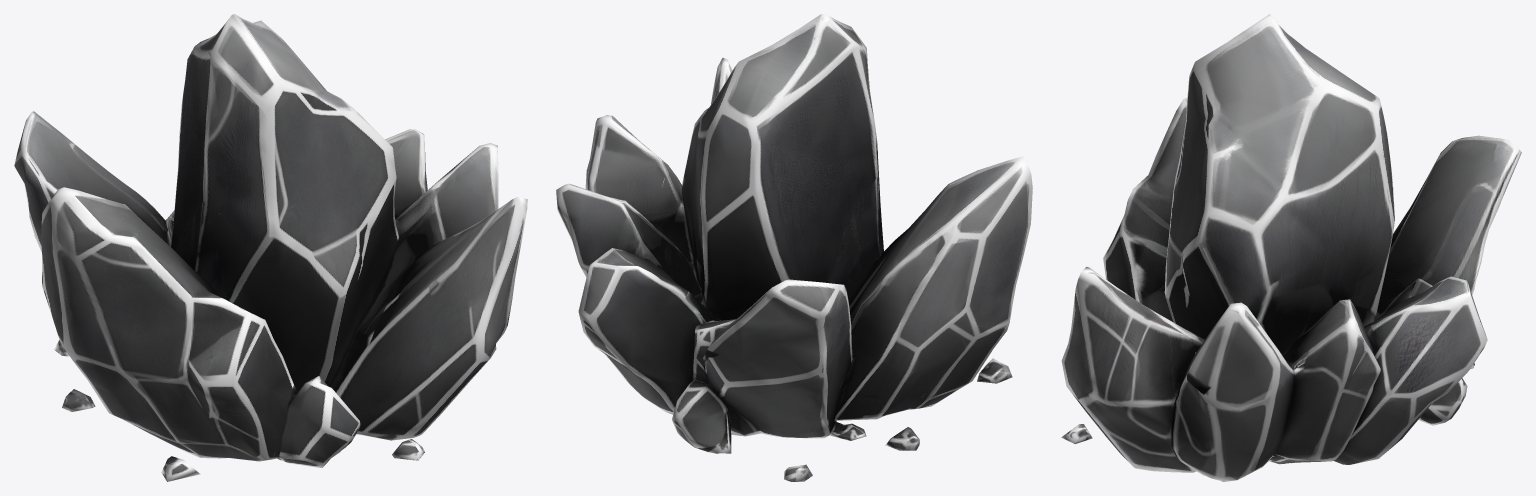
The picture shows the model from 3 angles, left to right: view 1: azimuth 30°, elevation 25°; view 2: azimuth 150°, elevation 25°; view 3: azimuth 270°, elevation 25°; orthographic projection. The views are drawn at different scales.
Visible parts, largest first — view 1: Mesh_0; view 2: Mesh_0; view 3: Mesh_0.
Part boxes in pixels (x1=…): Mesh_0: x1=14, y1=14, x2=527, y2=481; Mesh_0: x1=556, y1=14, x2=1032, y2=481; Mesh_0: x1=1061, y1=14, x2=1521, y2=481.
Bounding box in the file's own units: 1.91 × 1.66 × 1.73.
Materials: 1 (1 with a texture image).
